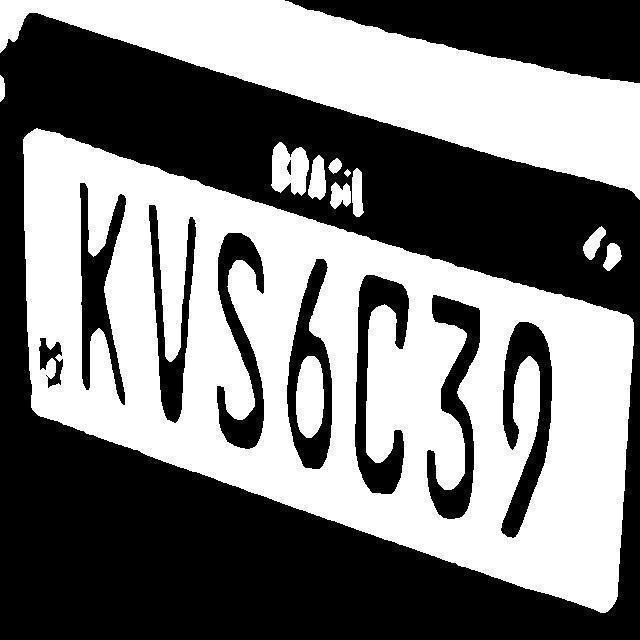3: (424, 290, 488, 528)
6: (279, 237, 341, 471)
9: (495, 264, 565, 544)
c: (349, 260, 417, 496)
k: (70, 172, 138, 413)
s: (214, 213, 276, 452)
v: (143, 196, 200, 433)
